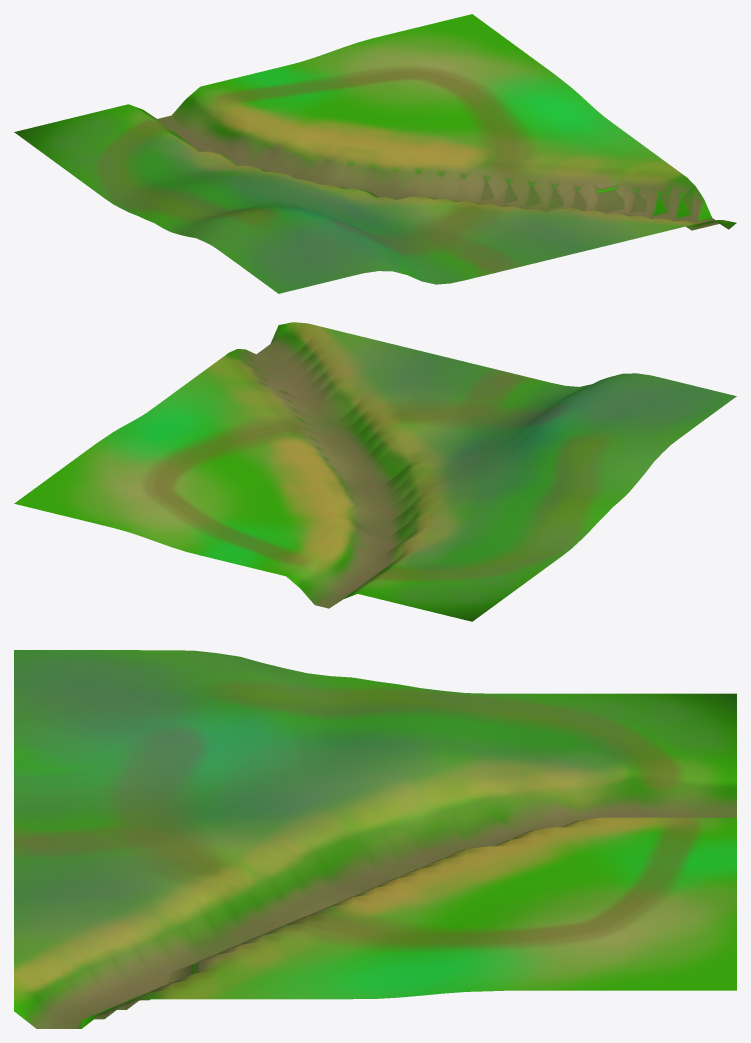
Rendered from 1 level land.fbx.
3 views of the same model, one above another, from view 1: azimuth 30°, elevation 25°; view 2: azimuth 150°, elevation 25°; view 3: azimuth 270°, elevation 25° (orthographic). The views are drawn at different scales.
Parts seen in each view (by area): view 1: Plane; view 2: Plane; view 3: Plane.
Part boxes in pixels (box(x1,y1,x2,y2)): Plane: box(14, 14, 736, 293); Plane: box(14, 322, 736, 621); Plane: box(14, 650, 736, 1028).
Bounding box in the file's own units: 1800 × 201 × 1800.
